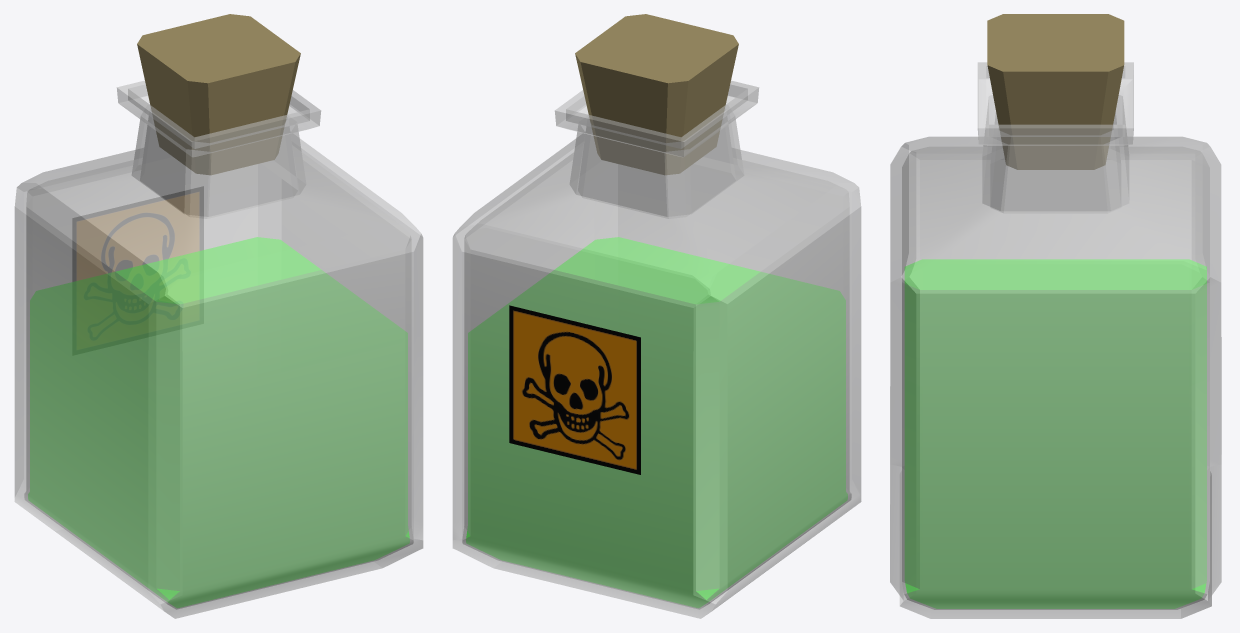
Rendered from PoisonBottle.fbx.
3 renders of one model, left to right at view 1: azimuth 30°, elevation 25°; view 2: azimuth 150°, elevation 25°; view 3: azimuth 270°, elevation 25°, orthographic. The views are drawn at different scales.
Visible parts, largest first — view 1: Bottle, Liquid, Cork, Skull; view 2: Bottle, Liquid, Cork, Skull; view 3: Bottle, Liquid, Cork.
Boxes of the visible parts, x1,y1,x2,y2 form: Bottle: (14, 80, 423, 618); Liquid: (28, 237, 409, 607); Cork: (137, 14, 300, 174); Skull: (73, 187, 203, 281); Bottle: (452, 80, 861, 618); Liquid: (466, 237, 847, 607); Cork: (575, 14, 738, 174); Skull: (509, 305, 640, 474); Bottle: (890, 62, 1221, 618); Liquid: (905, 259, 1206, 608); Cork: (987, 14, 1124, 169).
Bounding box in the file's own units: 18.38 × 32.02 × 18.62.
